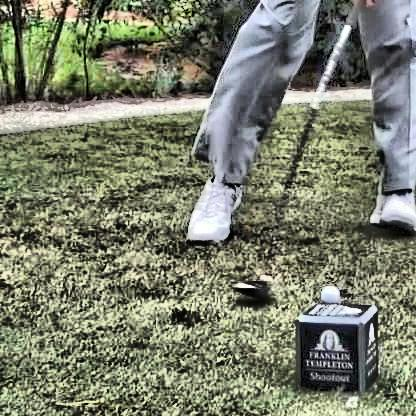golfball: (315, 280, 341, 301)
